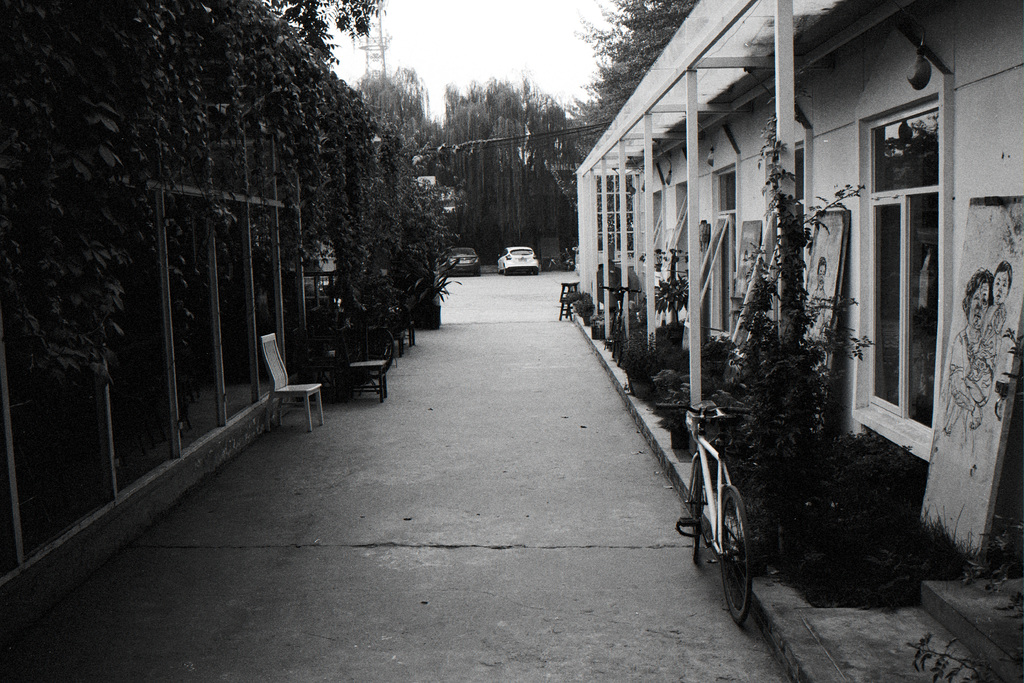Tree: (0, 0, 690, 586), (732, 177, 857, 521)
